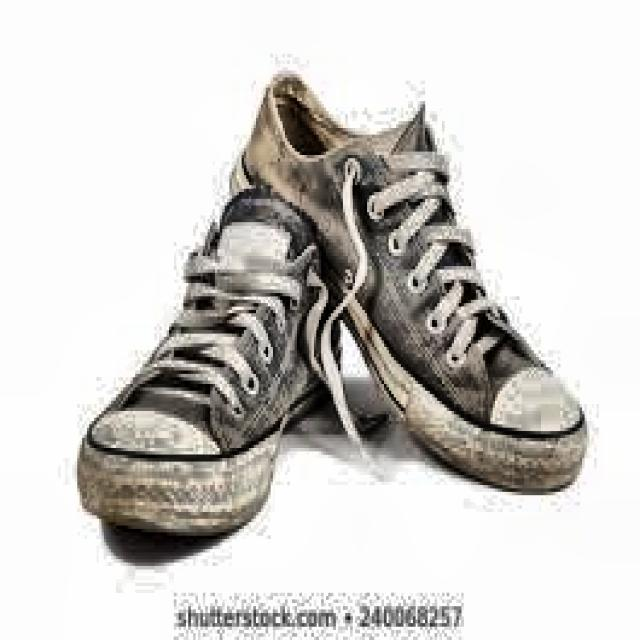shoes: (75, 53, 612, 558)
